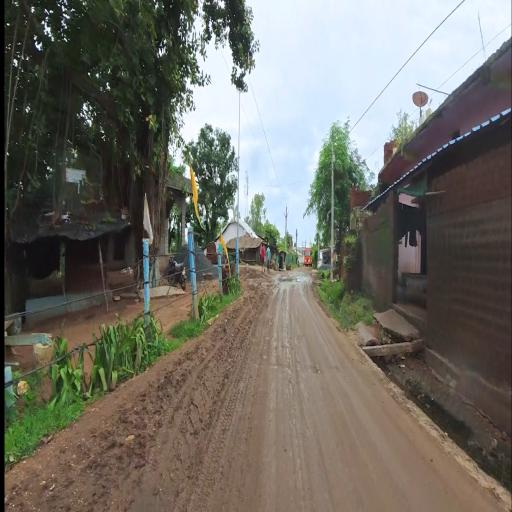drainage_issue: (355, 317, 459, 456)
